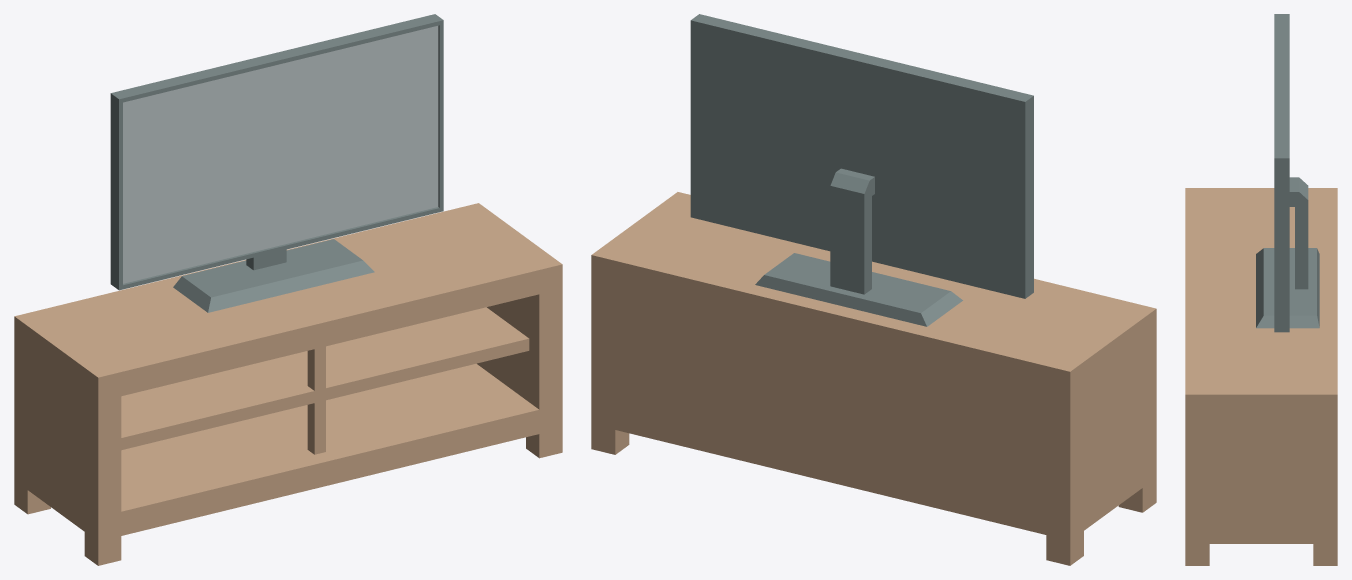
The picture shows the model from 3 angles, left to right: view 1: azimuth 30°, elevation 25°; view 2: azimuth 150°, elevation 25°; view 3: azimuth 270°, elevation 25°; orthographic projection. The views are drawn at different scales.
Parts seen in each view (by area): view 1: cabinet, screen; view 2: cabinet, screen; view 3: cabinet, screen.
Part boxes in pixels (x1=…): cabinet: x1=14, y1=203, x2=562, y2=565; screen: x1=110, y1=14, x2=443, y2=312; cabinet: x1=591, y1=192, x2=1156, y2=565; screen: x1=690, y1=14, x2=1033, y2=326; cabinet: x1=1185, y1=188, x2=1337, y2=565; screen: x1=1256, y1=14, x2=1319, y2=332.
Bounding box in the file's own units: 1.86 × 1.58 × 0.5813.
